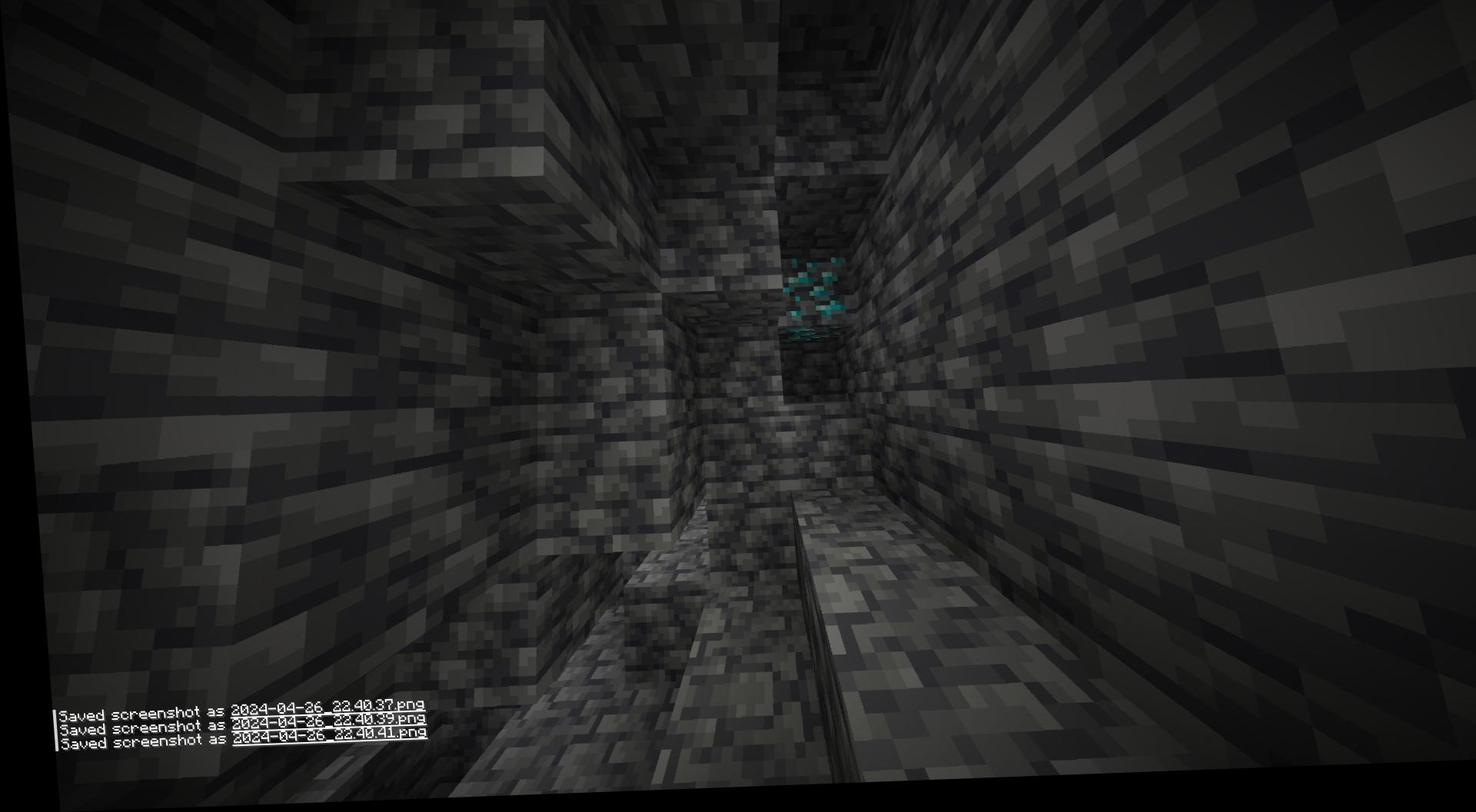diamond ore: (773, 251, 845, 332), (775, 331, 842, 351)
